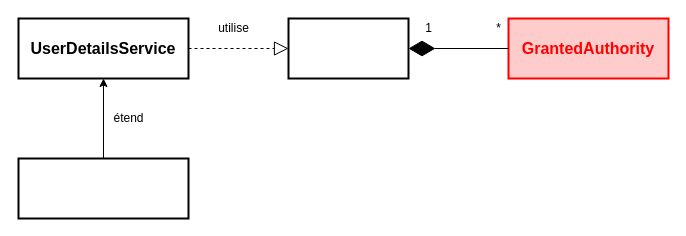
Image size: 686x236. Some labels were removed from this diagram. The shapes that lost their labels are listed below. From the top down, each one's centre as x and y in pixels, then its label:
At [348,48]: "UserDetails".
At [103,188]: "UserDetailsManager".
